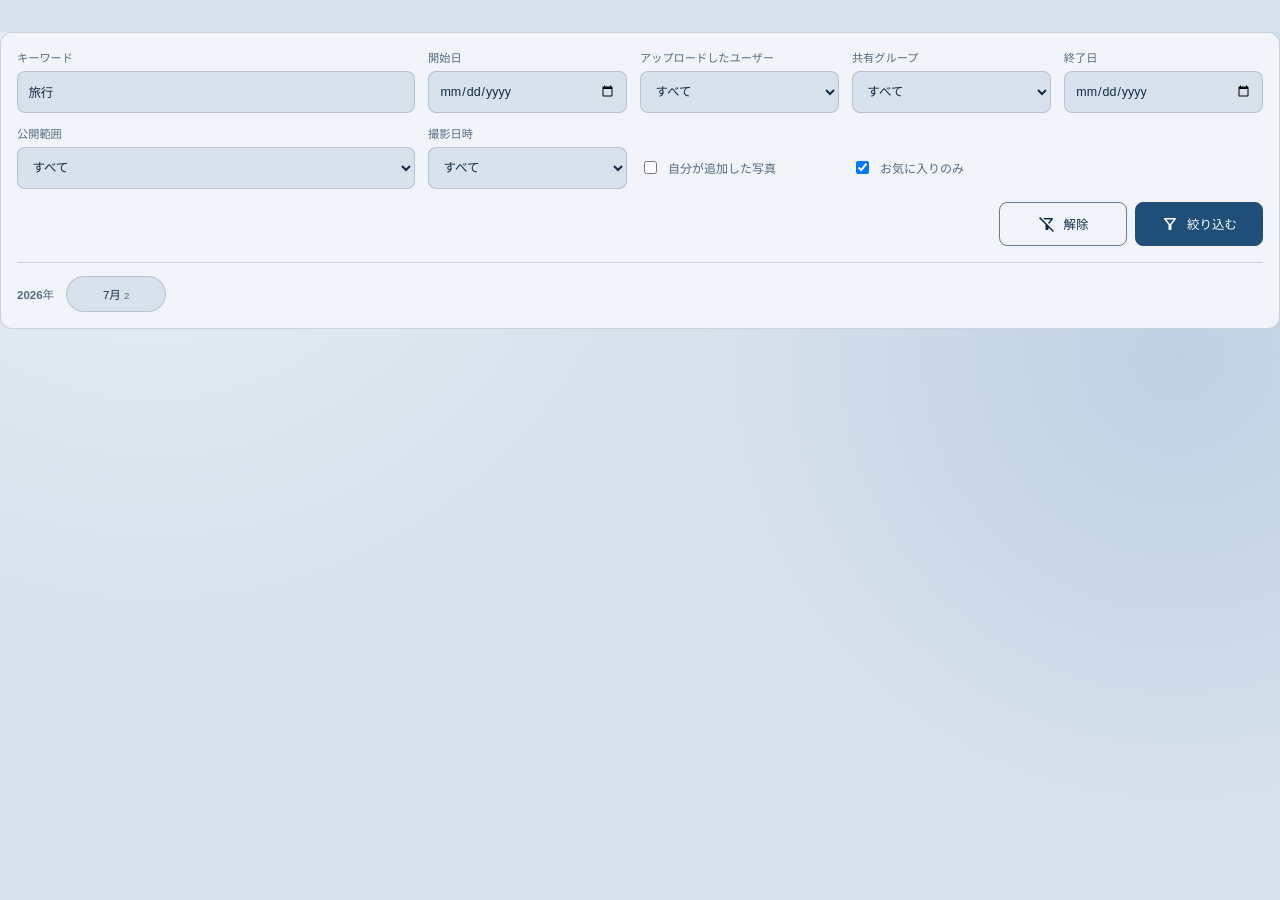
PhotoSearchPanel › keeps visible search fields aligned when a timeline month is selected
Click the button "7月 2".
click(116, 294)  # box [66, 276, 166, 312]
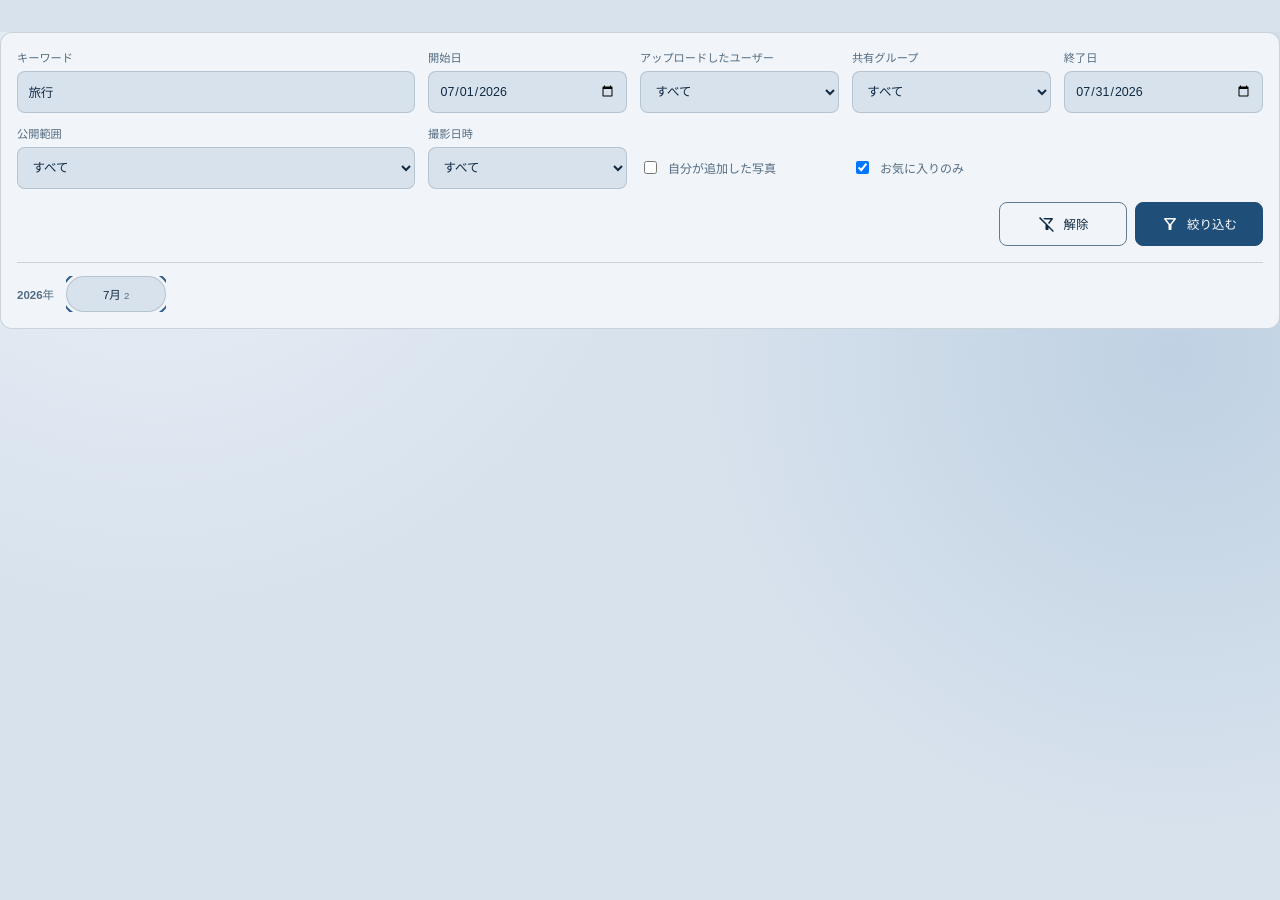
Expected: the search field showing "旅行" is shown, [17, 71, 415, 113]
Expected: the date field showing "2026-07-01" is shown, [428, 71, 627, 113]
